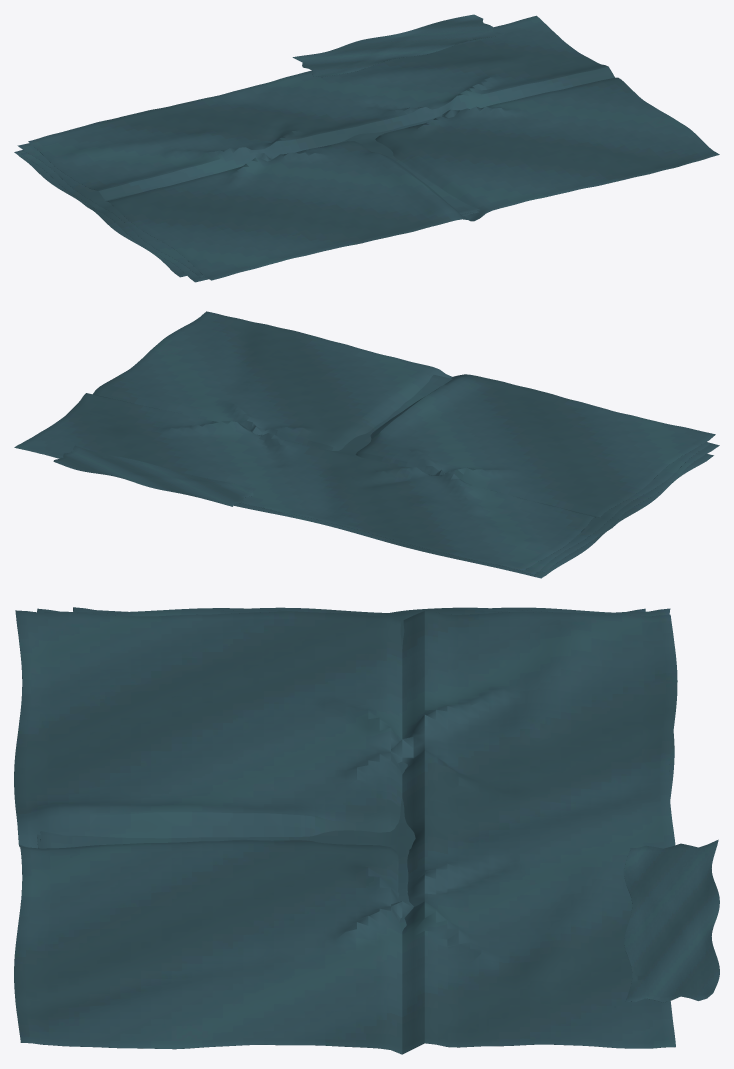
The model's file is product-37-dark-plastic-talpatri.glb.
The picture shows the model from 3 angles, top to bottom: view 1: azimuth 30°, elevation 25°; view 2: azimuth 150°, elevation 25°; view 3: azimuth 270°, elevation 25°; orthographic projection. The views are drawn at different scales.
Visible parts, largest first — view 1: Rear folded layer; view 2: Rear folded layer; view 3: Rear folded layer.
Part boxes in pixels (box(x1,y1,x2,y2)): Rear folded layer: box(14, 14, 719, 282); Rear folded layer: box(14, 311, 719, 578); Rear folded layer: box(14, 607, 719, 1054).
Size of the model in its own units: 1819 by 81.94 by 1207.
1 material, 1 textured.
